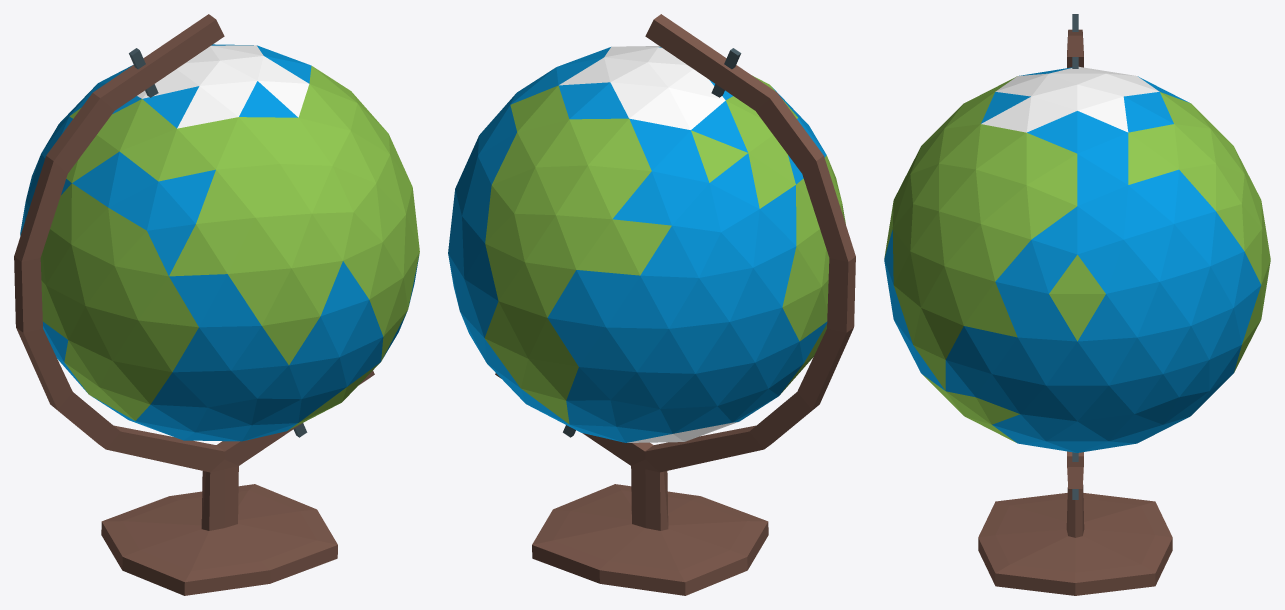
Rendered from Globe_01.obj.
3 renders of one model, left to right at view 1: azimuth 30°, elevation 25°; view 2: azimuth 150°, elevation 25°; view 3: azimuth 270°, elevation 25°, orthographic. The views are drawn at different scales.
Parts seen in each view (by area): view 1: globe_Circle.013; view 2: globe_Circle.013; view 3: globe_Circle.013.
Part boxes in pixels (x1=…): globe_Circle.013: x1=14, y1=14, x2=419, y2=595; globe_Circle.013: x1=448, y1=14, x2=855, y2=595; globe_Circle.013: x1=884, y1=14, x2=1270, y2=595.
Bounding box in the file's own units: 7.42 × 10 × 6.85.
